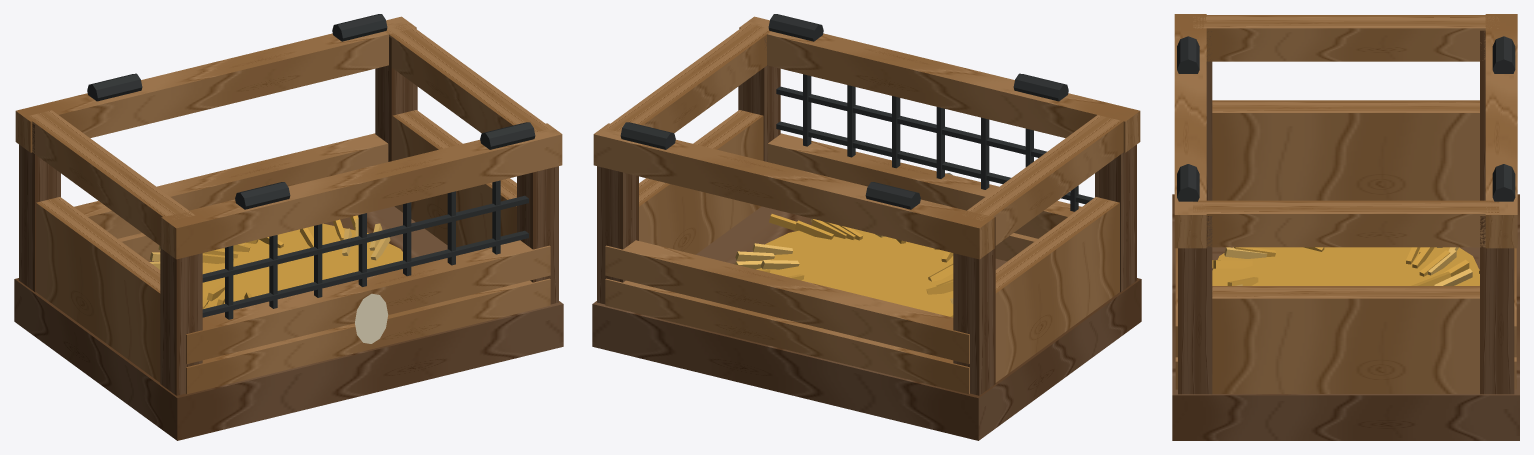
Rendered from IncubatorBody.fbx.
The picture shows the model from 3 angles, left to right: view 1: azimuth 30°, elevation 25°; view 2: azimuth 150°, elevation 25°; view 3: azimuth 270°, elevation 25°; orthographic projection. The views are drawn at different scales.
Visible parts, largest first — view 1: IncubatorBody; view 2: IncubatorBody; view 3: IncubatorBody.
Boxes of the visible parts, bbox=[...] form: IncubatorBody: bbox=[14, 14, 563, 440]; IncubatorBody: bbox=[592, 14, 1141, 440]; IncubatorBody: bbox=[1172, 14, 1519, 440].
Bounding box in the file's own units: 104 × 58 × 76.5.
